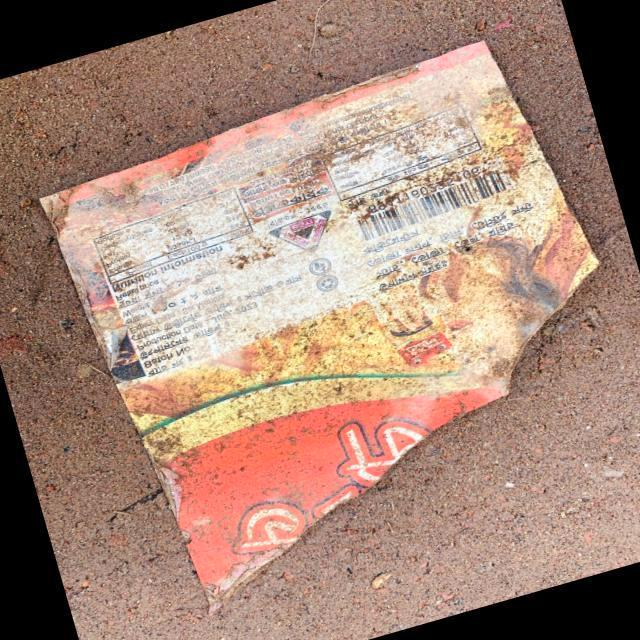packet: (21, 0, 640, 587)
